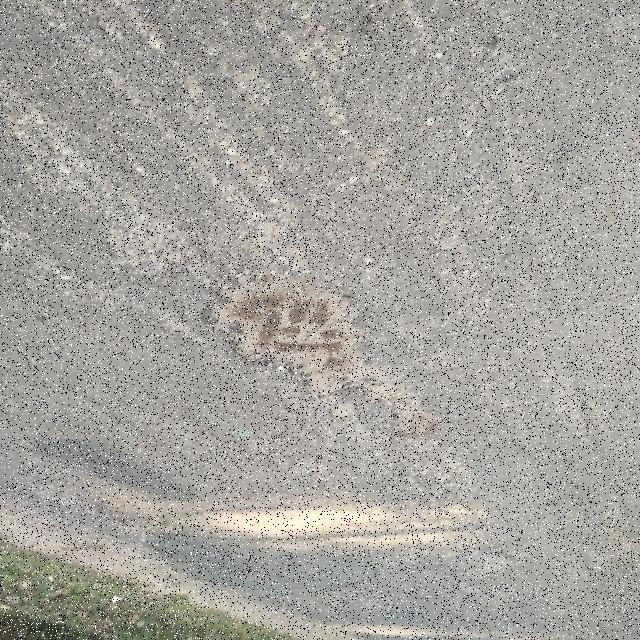Pothole: (202, 270, 441, 440)
